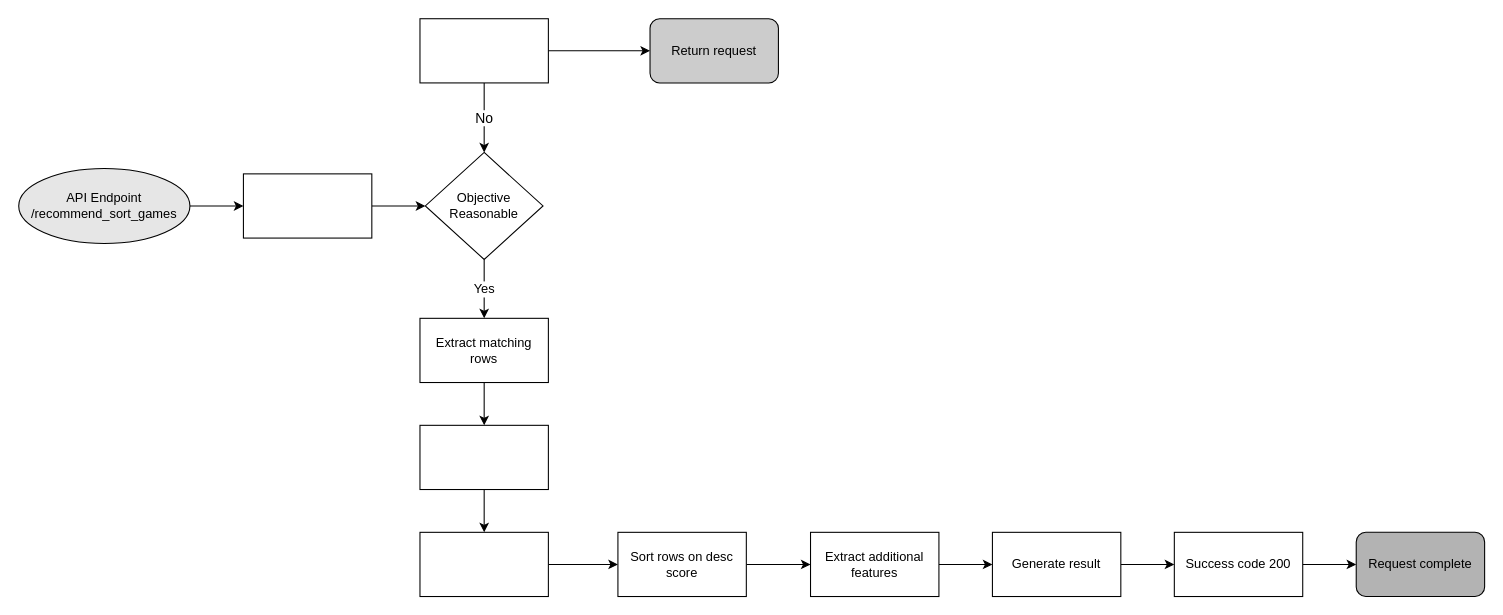
The diagram is 1503 pixels wide and 615 high, and some of its shapes have lost their labels. The shapes that lost their labels are listed below. From the top down, each one's centre as x and y in pixels, then its label:
At pixel 483 50: "Error Code 5xx".
At pixel 307 205: "Load sanitize Input".
At pixel 483 457: "Sum all event for each row".
At pixel 483 564: "Calculate rates and scores".
